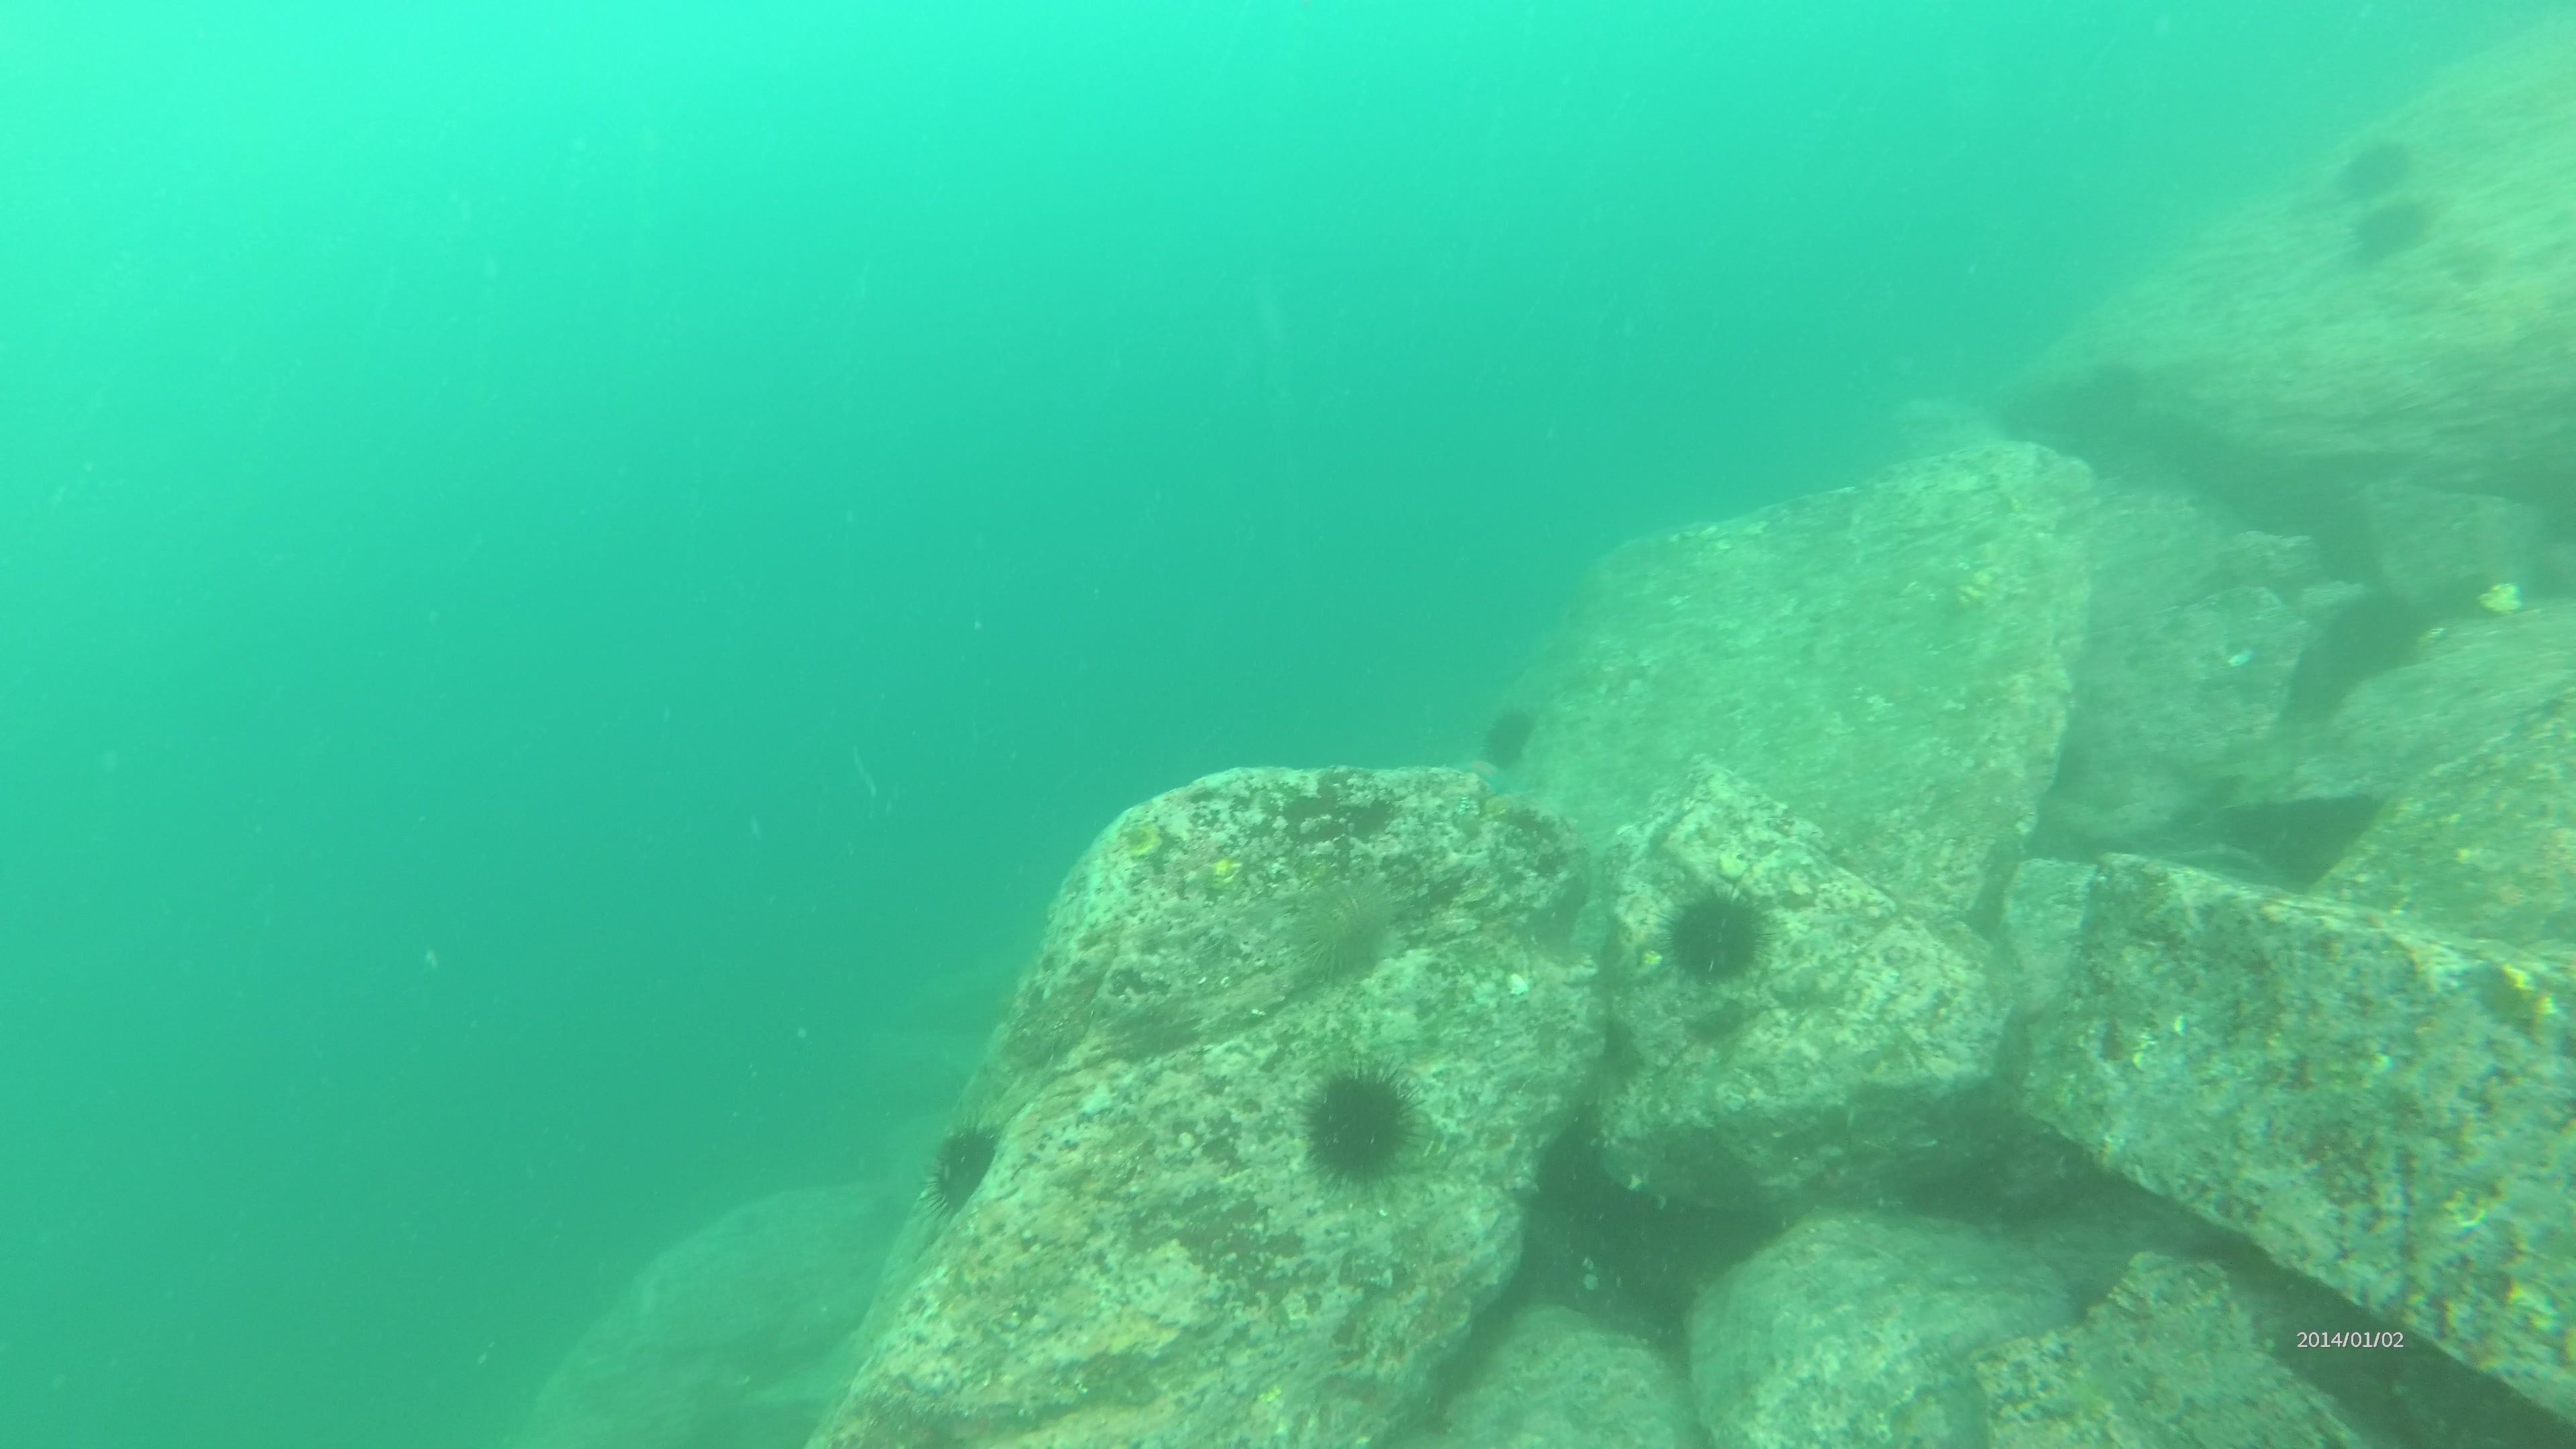echinus: (1277, 856, 1407, 987), (1297, 1058, 1424, 1191), (1656, 878, 1776, 991), (2318, 584, 2433, 685), (920, 1116, 1005, 1219), (2344, 191, 2434, 269), (2335, 129, 2419, 205), (1474, 701, 1543, 775)
